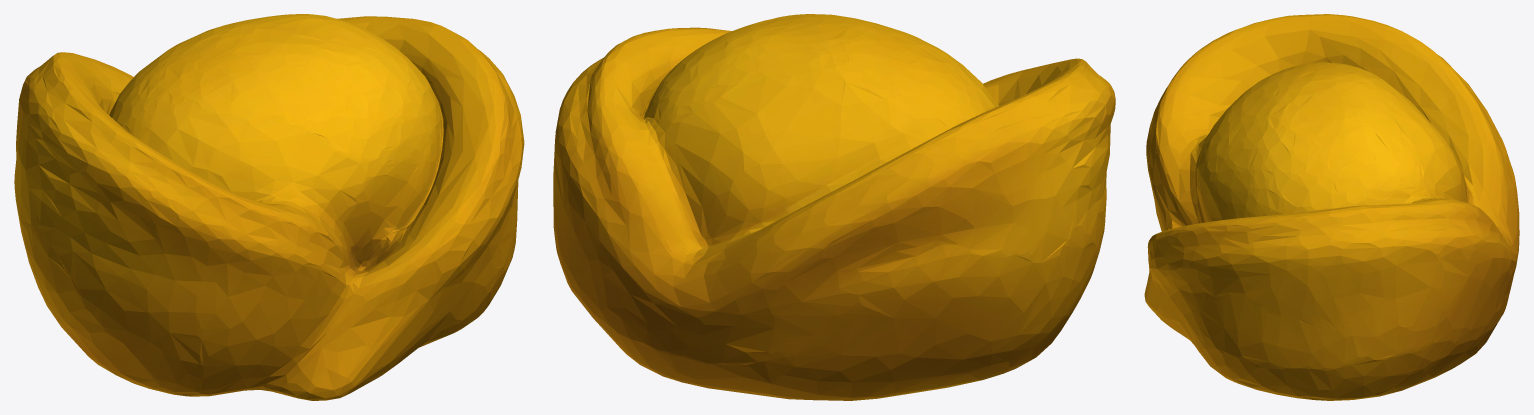
The picture shows the model from 3 angles, left to right: view 1: azimuth 30°, elevation 25°; view 2: azimuth 150°, elevation 25°; view 3: azimuth 270°, elevation 25°; orthographic projection. The views are drawn at different scales.
Parts seen in each view (by area): view 1: Mesh_0; view 2: Mesh_0; view 3: Mesh_0.
Part boxes in pixels (x1,y1,x2,y2): Mesh_0: (14, 14, 524, 400); Mesh_0: (553, 14, 1115, 400); Mesh_0: (1144, 14, 1519, 400).
Size of the model in its own units: 1.1 by 0.6456 by 0.9219.
1 material, 1 textured.
